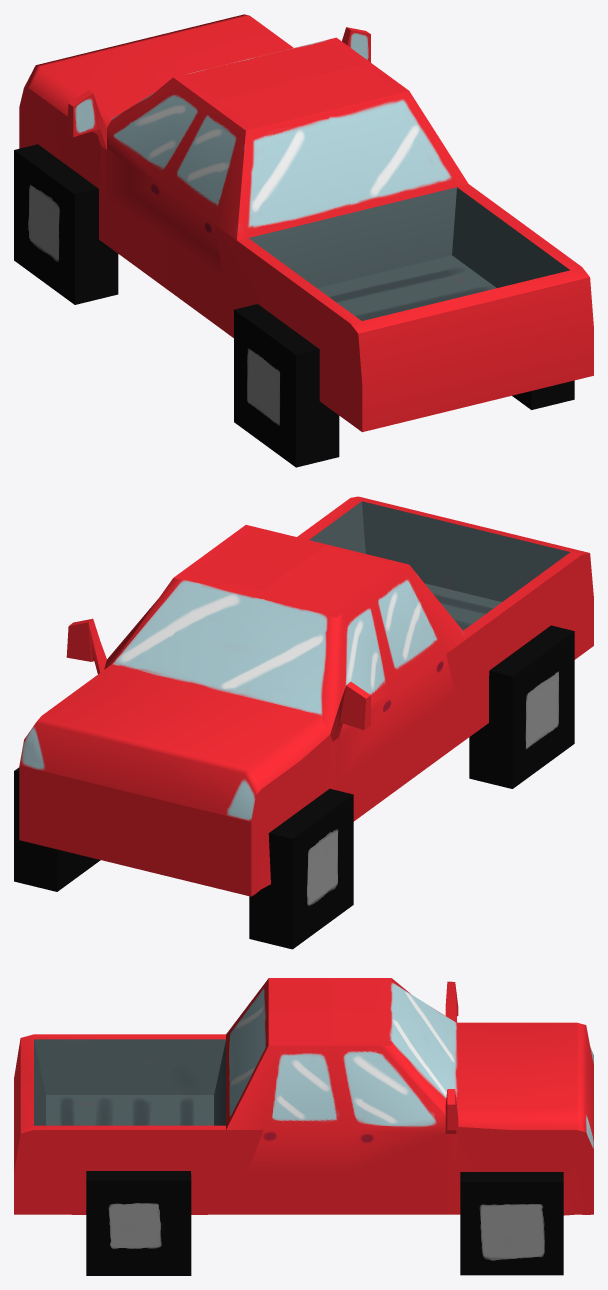
Rendered from trucknomorals.fbx.
3 renders of one model, top to bottom at view 1: azimuth 30°, elevation 25°; view 2: azimuth 150°, elevation 25°; view 3: azimuth 270°, elevation 25°, orthographic. The views are drawn at different scales.
Parts seen in each view (by area): view 1: Truck; view 2: Truck; view 3: Truck.
Part boxes in pixels (x1=…): Truck: x1=14, y1=14, x2=593, y2=467; Truck: x1=14, y1=496, x2=593, y2=949; Truck: x1=14, y1=978, x2=593, y2=1275.
Bounding box in the file's own units: 1249 × 987 × 2491.
